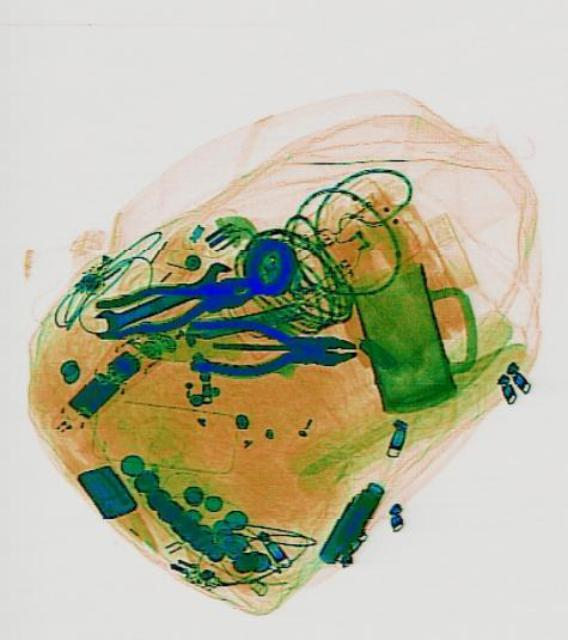Pliers: (92, 264, 253, 342), (183, 316, 355, 376)
Wrench: (88, 256, 233, 336)
